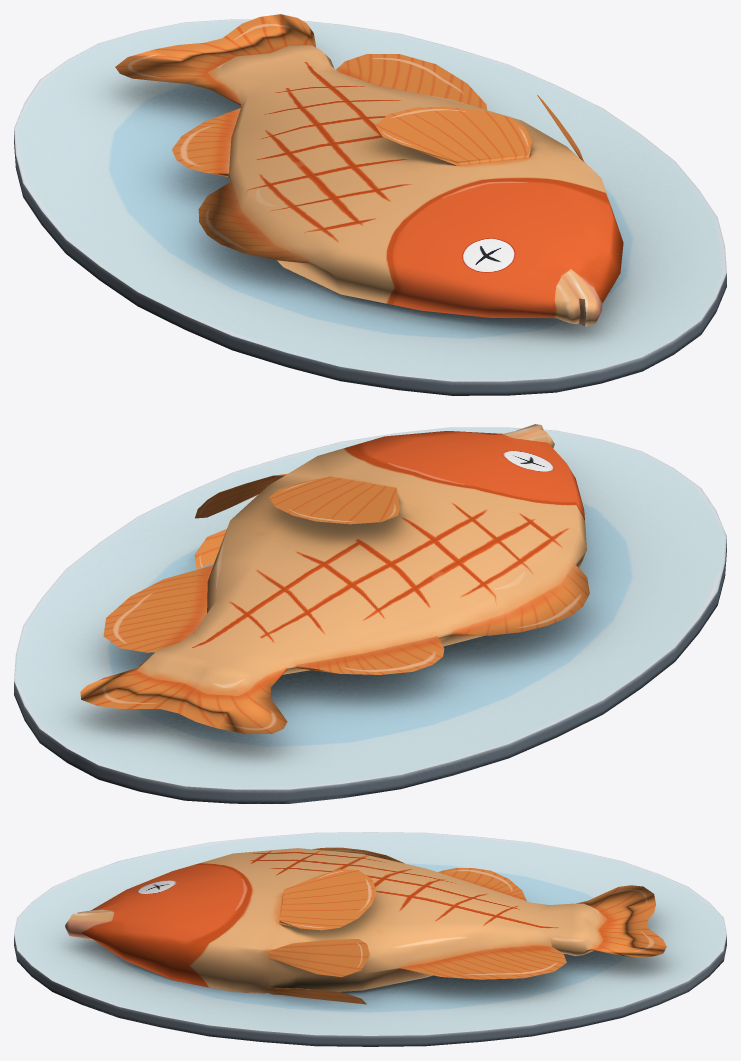
Rendered from Fish.fbx.
3 views of the same model, one above another, from view 1: azimuth 30°, elevation 25°; view 2: azimuth 150°, elevation 25°; view 3: azimuth 270°, elevation 25° (orthographic). The views are drawn at different scales.
Parts seen in each view (by area): view 1: 059; view 2: 059; view 3: 059.
Part boxes in pixels (<box>): 059: <box>14,14,726,395</box>; 059: <box>14,424,726,803</box>; 059: <box>14,832,726,1046</box>.
Bounding box in the file's own units: 42.99 × 9.45 × 63.53.
1 material, 1 textured.
